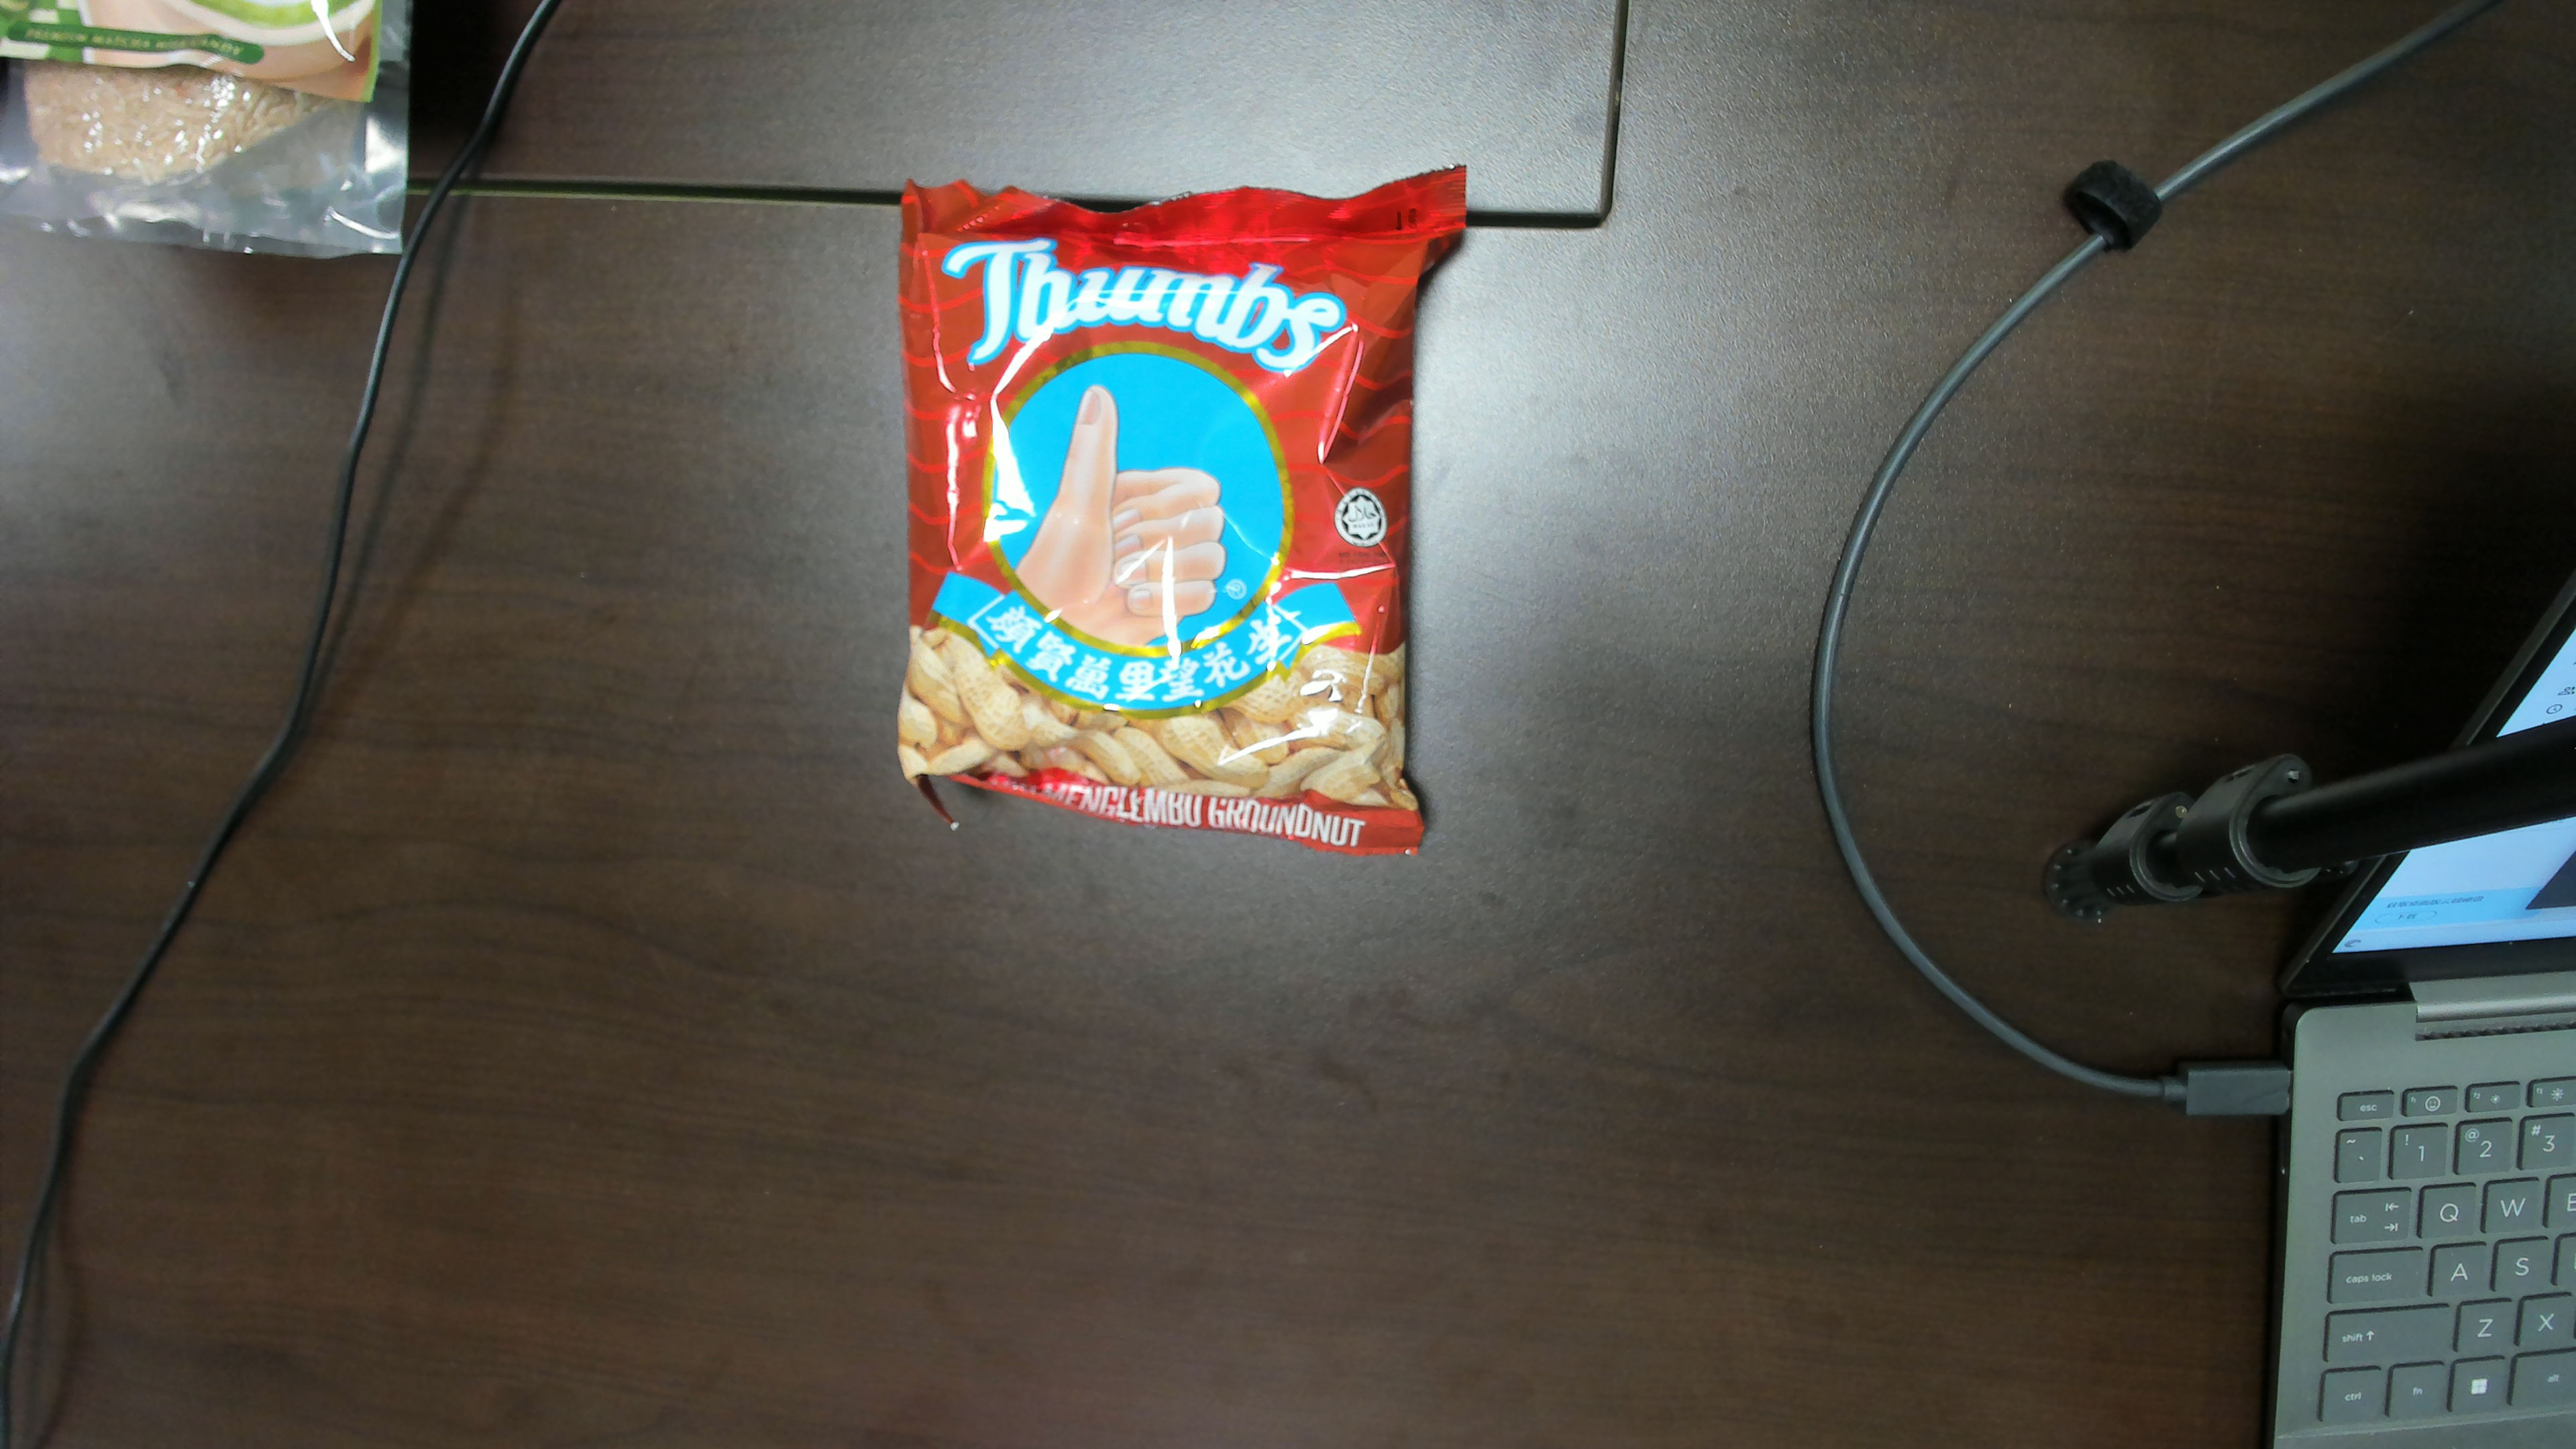Nuts_100-199g_Halal_NonHealthy: (929, 249, 1391, 796)
